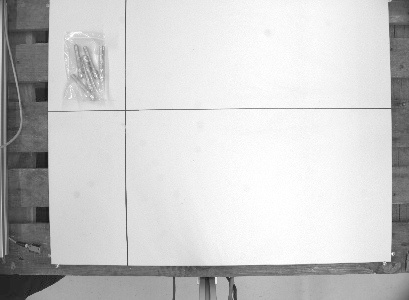t2: (60, 26, 112, 106)
